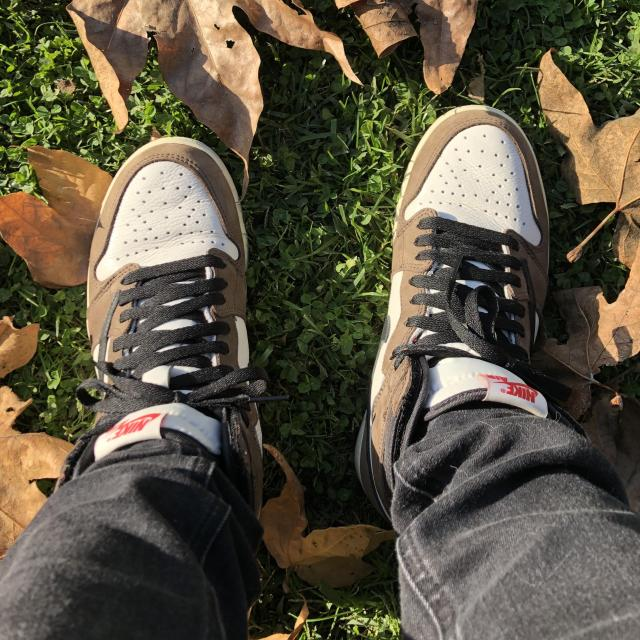shoe: (352, 105, 564, 476), (76, 135, 266, 491)
